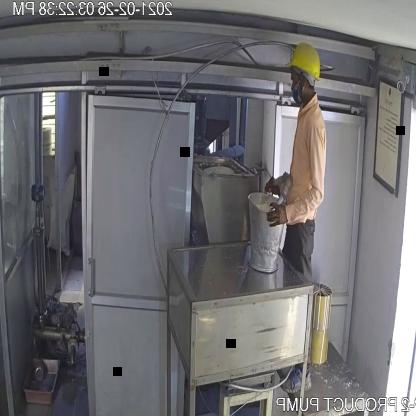helmet: (281, 41, 324, 85)
